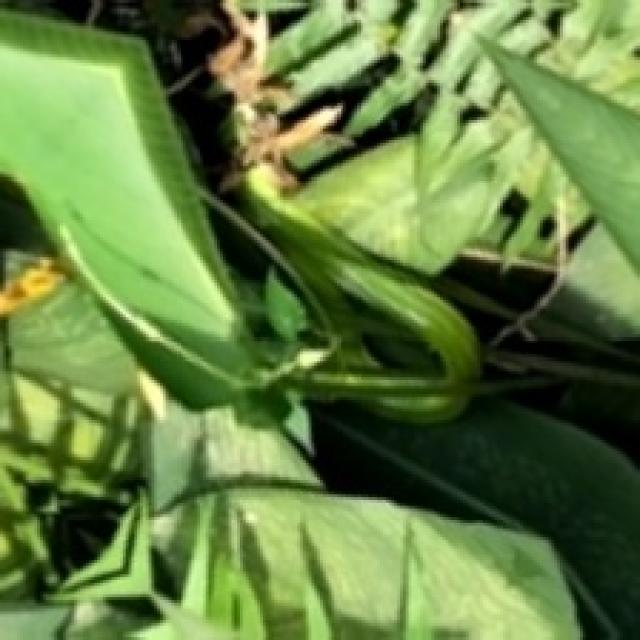red-tailed green ratsnake: (242, 170, 480, 421)
